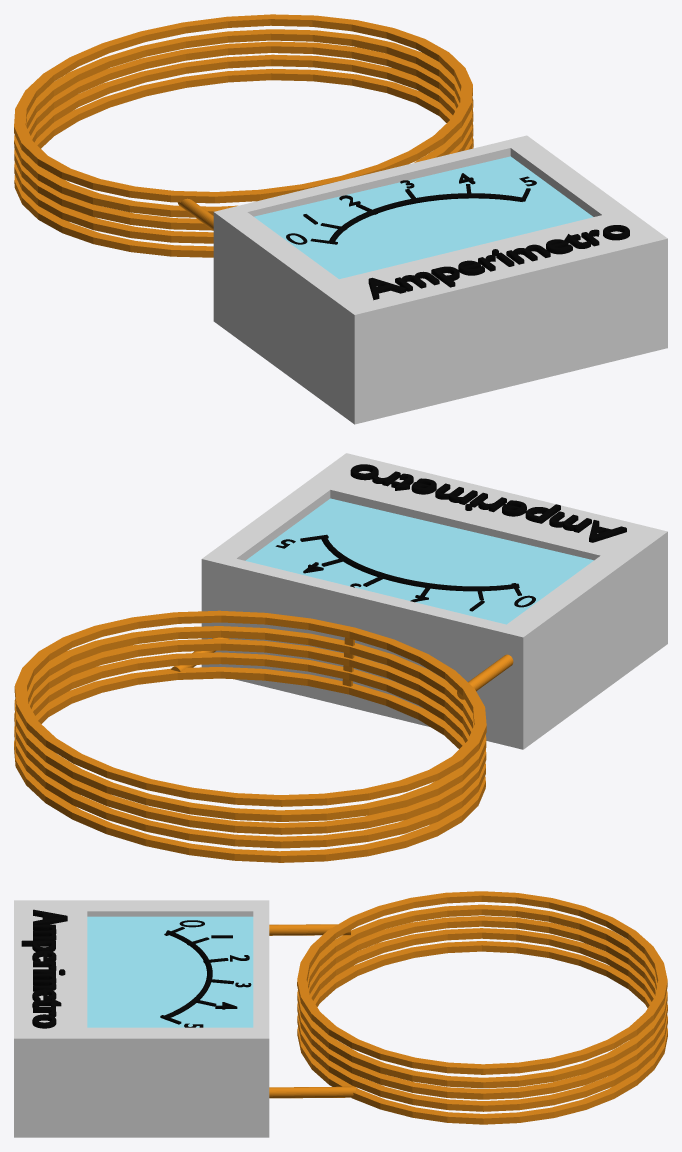
The model's file is multimetro2.dae.
3 renders of one model, top to bottom at view 1: azimuth 30°, elevation 25°; view 2: azimuth 150°, elevation 25°; view 3: azimuth 270°, elevation 25°, orthographic. The views are drawn at different scales.
Parts seen in each view (by area): view 1: Cono.010, Text.002, Plane.002; view 2: Cono.010, Text.002, Plane.002; view 3: Cono.010, Text.002, Plane.002.
Boxes of the visible parts, <box> form: Cono.010: <box>14,14,667,424</box>; Text.002: <box>368,225,629,300</box>; Plane.002: <box>286,173,536,244</box>; Cono.010: <box>14,453,667,862</box>; Text.002: <box>350,464,626,542</box>; Plane.002: <box>275,534,535,611</box>; Cono.010: <box>14,891,667,1137</box>; Text.002: <box>21,909,67,1028</box>; Plane.002: <box>160,920,251,1027</box>.
Size of the model in its own units: 1.12 by 1.7 by 0.2961.
